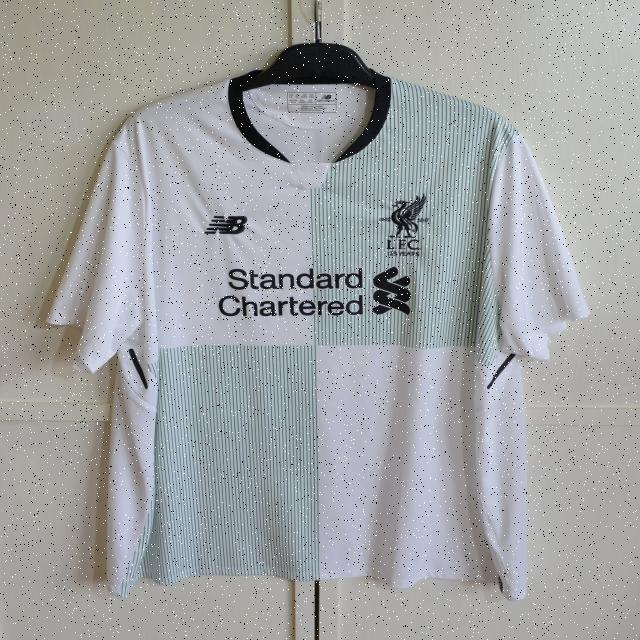Standard Chartered: (218, 262, 414, 322)
